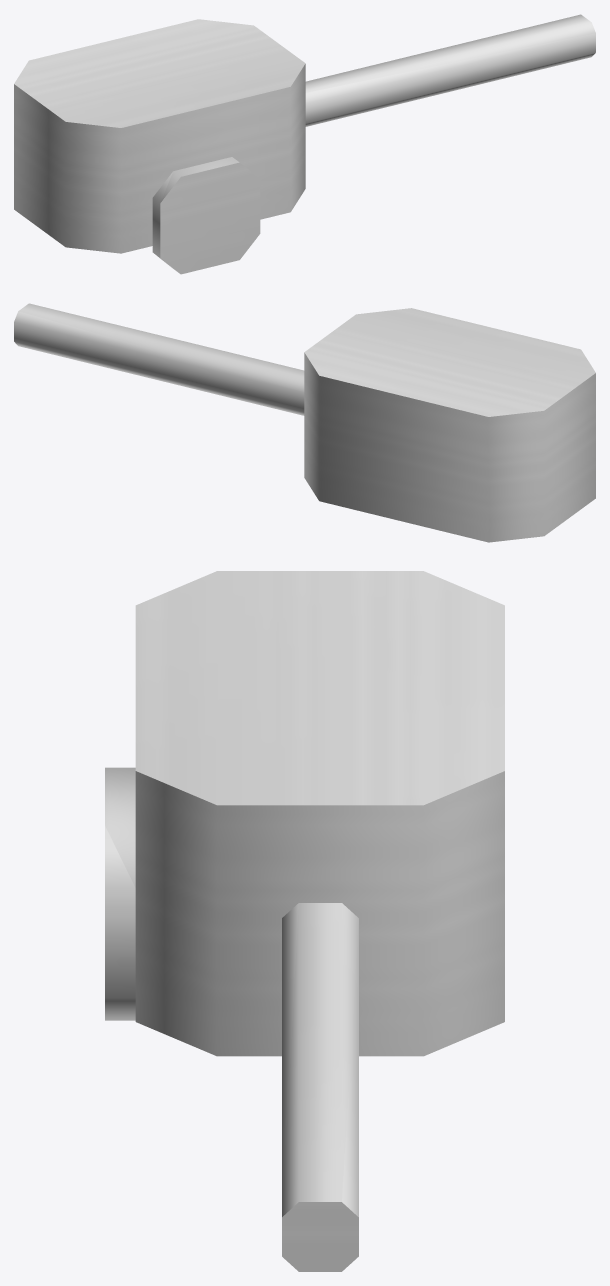
File: turret_gun_mini.obj
3 views of the same model, one above another, from view 1: azimuth 30°, elevation 25°; view 2: azimuth 150°, elevation 25°; view 3: azimuth 270°, elevation 25° (orthographic). The views are drawn at different scales.
Parts seen in each view (by area): view 1: source_part_00, source_part_01, source_part_02; view 2: source_part_00, source_part_01; view 3: source_part_00, source_part_01, source_part_02.
Boxes of the visible parts, box(x1,y1,x2,y2) form: source_part_00: box(14, 19, 305, 253); source_part_01: box(305, 14, 595, 126); source_part_02: box(152, 157, 260, 274); source_part_00: box(304, 308, 595, 542); source_part_01: box(14, 303, 304, 415); source_part_00: box(135, 571, 504, 1056); source_part_01: box(282, 903, 358, 1271); source_part_02: box(105, 767, 135, 1020).
Size of the model in its own units: 0.82 by 0.22 by 0.26.
